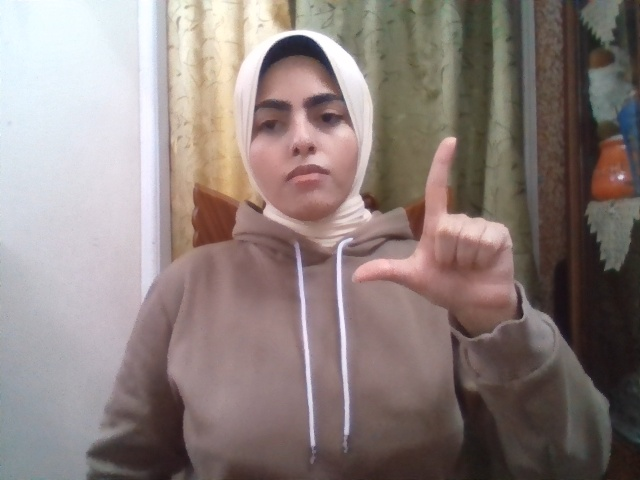L: (352, 137, 517, 313)
